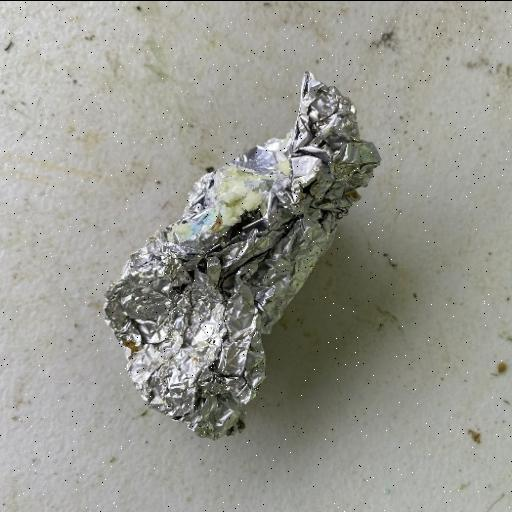Metal: (101, 69, 383, 441)
